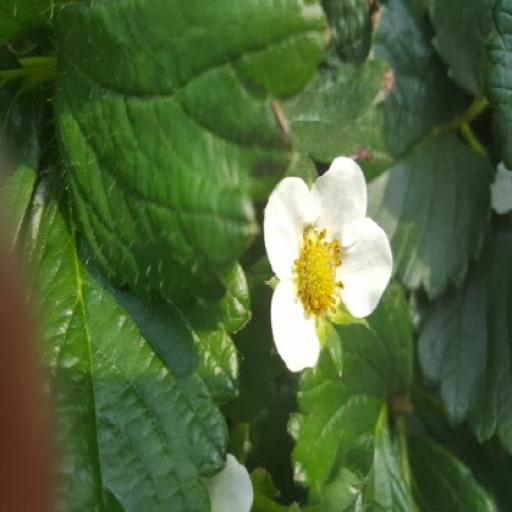Blossom Blight: (291, 223, 347, 322)
